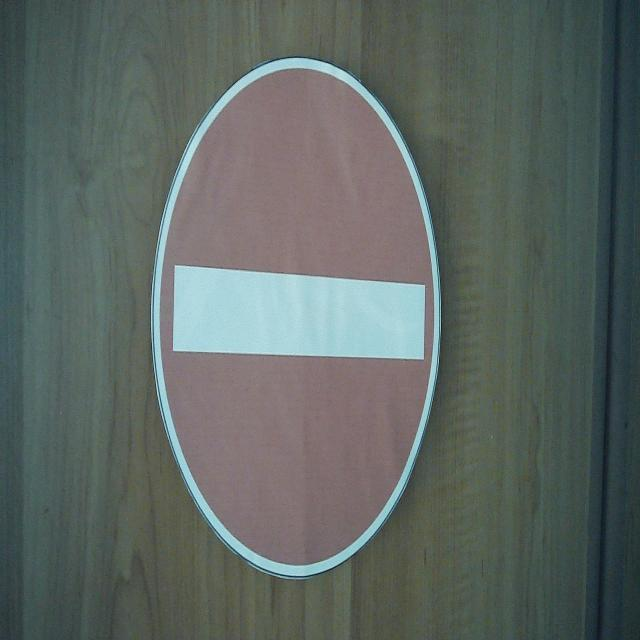no_entry: (149, 54, 444, 584)
